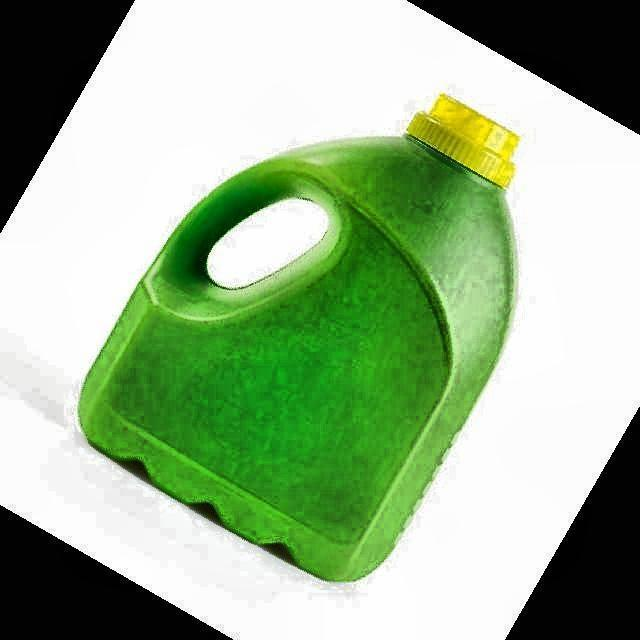plastic: (79, 95, 518, 580)
